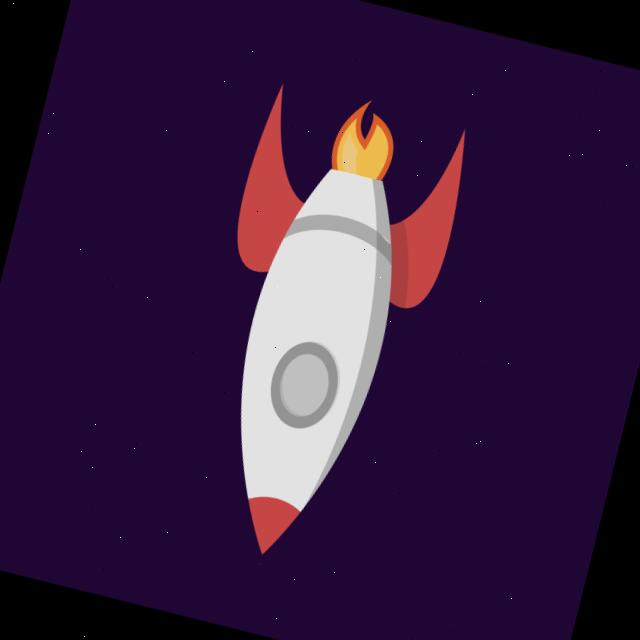rocket: (225, 72, 476, 579)
